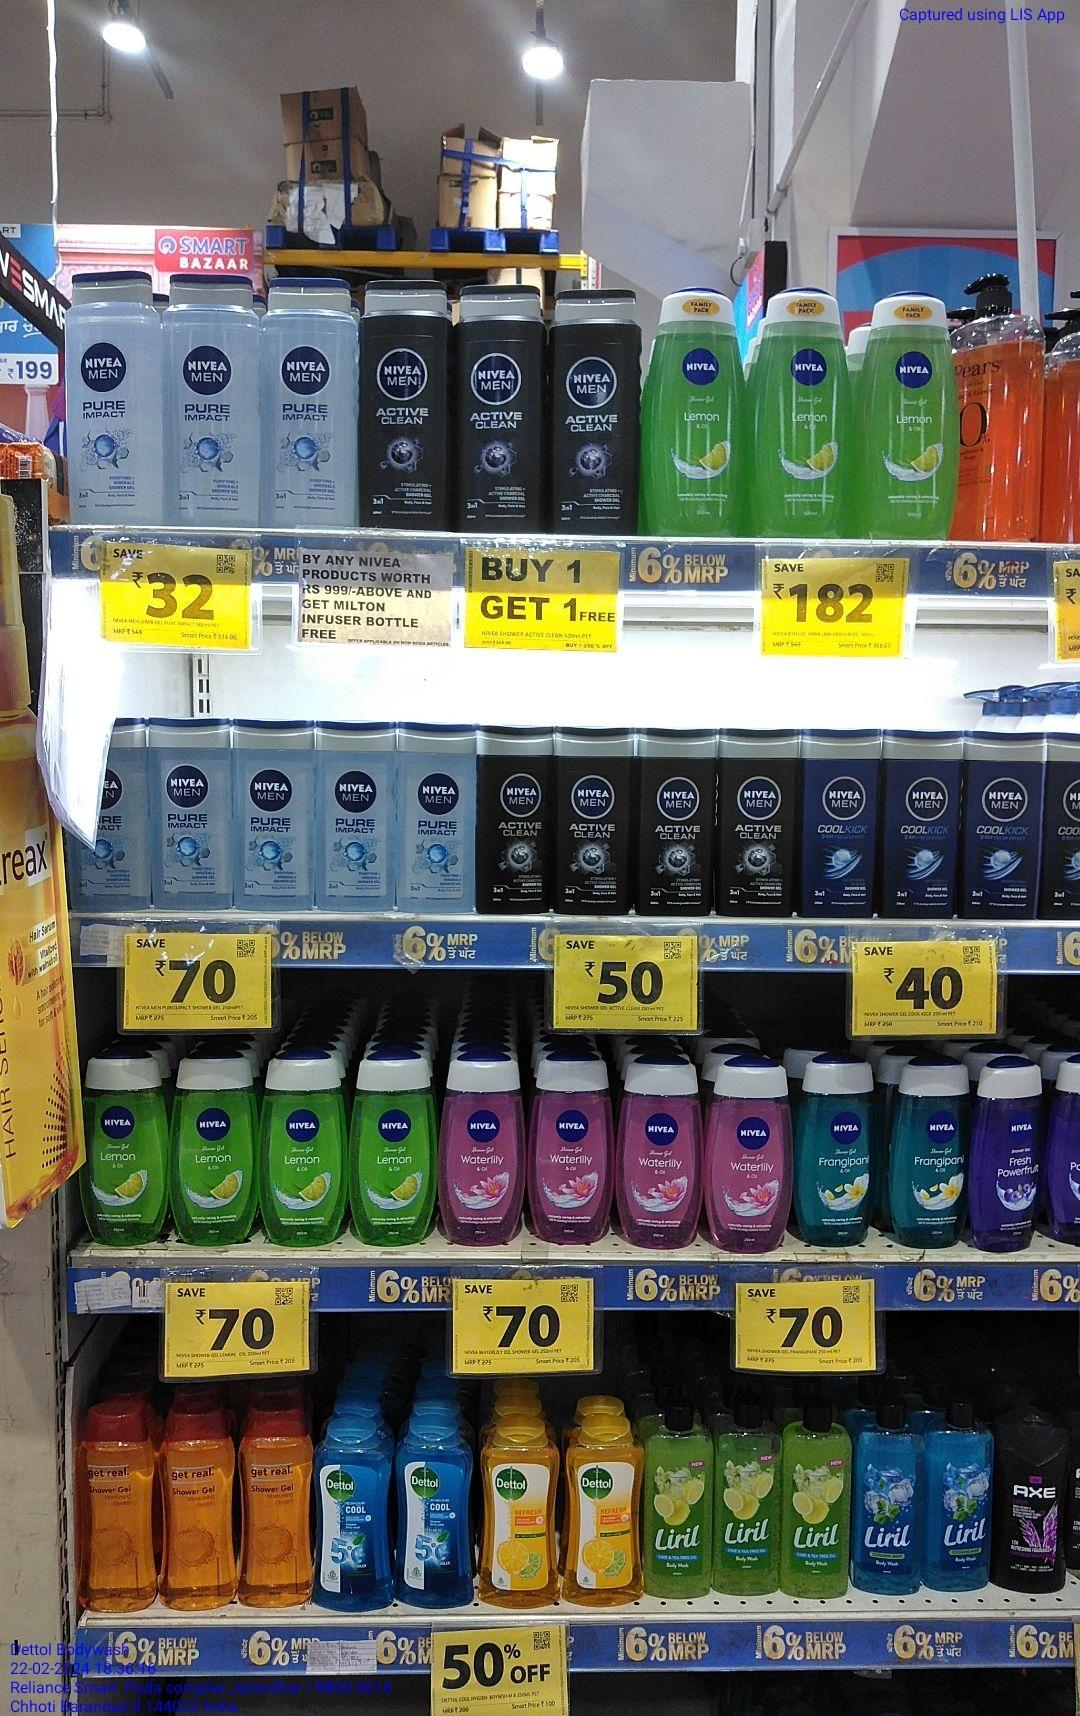Dettol_Bodywash_Cool: (309, 1424, 391, 1610), (394, 1425, 474, 1605)
Dettol_Bodywash_Refresh: (479, 1429, 560, 1606), (566, 1419, 640, 1609)
Get_Real_Shower_Gel_Moisturising_Glycerin_300ML: (77, 1401, 153, 1613), (161, 1412, 236, 1614), (241, 1395, 311, 1605)
Liril_Cooling_Mint_Body_Wash_250ML: (855, 1404, 926, 1595), (928, 1406, 994, 1587)
Liril_Lime_and_Tea_Tree_Oil_Body_Wash_250ML: (645, 1407, 714, 1600), (783, 1407, 849, 1599), (718, 1410, 779, 1597)
Nivea_Shower_Gel_Frangipani_and_Oil_250ML: (895, 1059, 962, 1249), (806, 1065, 868, 1238)
Nivea_Shower_Gel_Fresh_Powerfruit_250ML: (974, 1060, 1039, 1251)
Nivea_Shower_Gel_Lemon_and_Oil_250ML: (635, 284, 742, 539), (847, 290, 952, 540), (752, 291, 844, 538), (256, 1059, 345, 1247), (78, 1050, 165, 1241), (173, 1058, 258, 1249), (353, 1058, 432, 1246)
Nivea_Shower_Gel_Waterlily_and_Oil_250ML: (528, 1053, 615, 1244), (705, 1059, 785, 1254), (615, 1056, 694, 1251), (438, 1060, 520, 1244)
